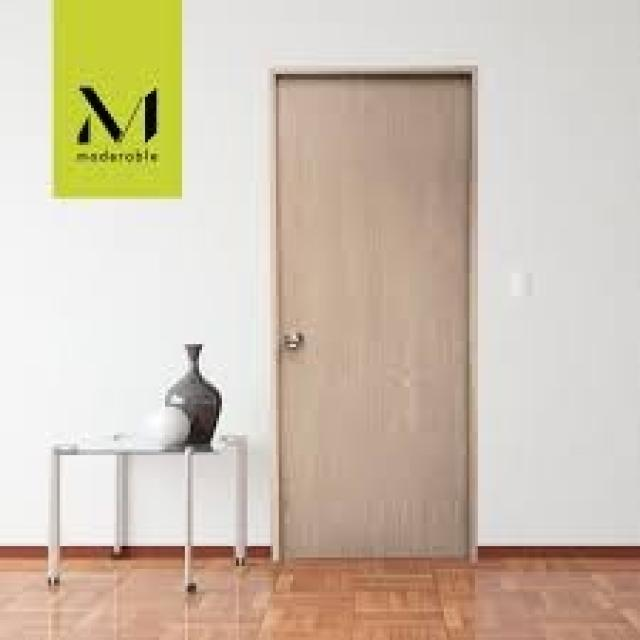door: (273, 68, 475, 563)
